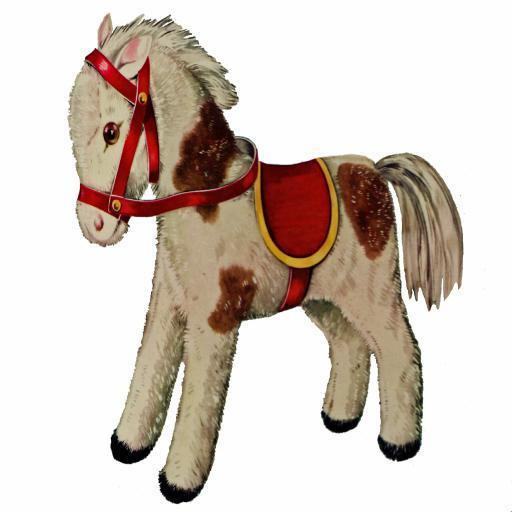horse: (66, 10, 465, 507)
